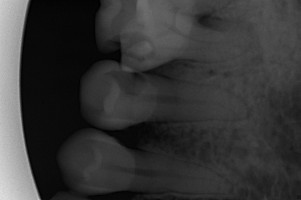Endo-Periodontal Lesion: (197, 13, 213, 29)
